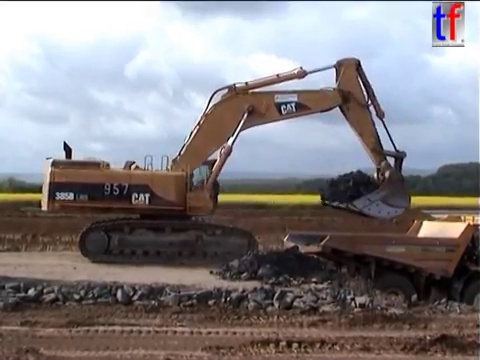excavator: (38, 54, 414, 270)
truck: (280, 212, 480, 332)
